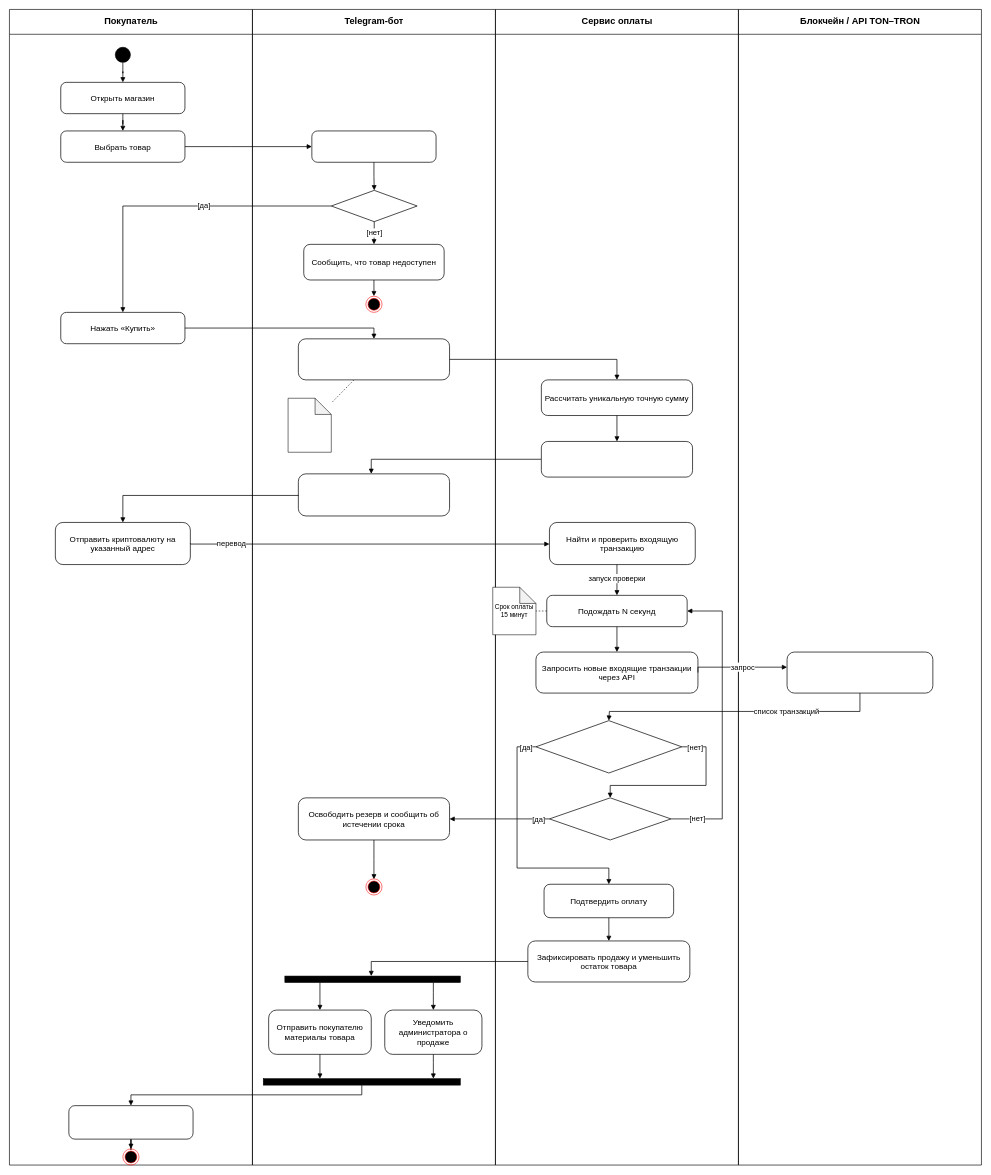
This 991x1175 diagram has some shape labels left out. Each missing label, with the centre of its shape:
"15 минут" belongs at point (309, 425).
"Вернуть список входящих транзакций" belongs at point (859, 672).
"Найдена подходящая транзакция?" belongs at point (608, 746).
"Показать карточку товара" belongs at point (373, 146).
"Показать сеть, адрес, точную сумму и срок оплаты" belongs at point (374, 494).
"Получить цифровой товар" belongs at point (130, 1122).
"Создать заказ и зарезервировать товар" belongs at point (374, 359).
"Срок оплаты истёк?" belongs at point (610, 818).
"Сформировать платёжный запрос" belongs at point (617, 459).
"Товар доступен?" belongs at point (374, 206).
